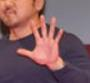down: (14, 14, 65, 67)
